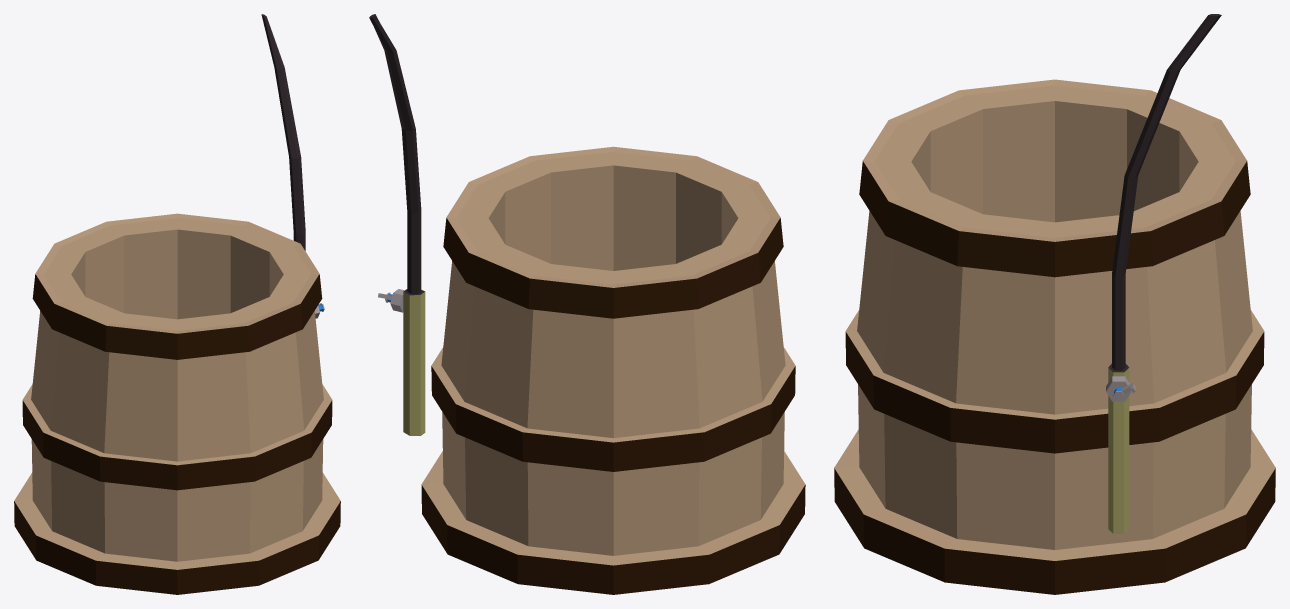
File: RodBarrel.fbx
The picture shows the model from 3 angles, left to right: view 1: azimuth 30°, elevation 25°; view 2: azimuth 150°, elevation 25°; view 3: azimuth 270°, elevation 25°; orthographic projection. The views are drawn at different scales.
Visible parts, largest first — view 1: Cylinder.003, Cylinder.004; view 2: Cylinder.003, Cylinder.004; view 3: Cylinder.003, Cylinder.004.
Boxes of the visible parts, bbox=[...] form: Cylinder.003: bbox=[14, 213, 340, 594]; Cylinder.004: bbox=[261, 14, 324, 318]; Cylinder.003: bbox=[421, 146, 805, 594]; Cylinder.004: bbox=[369, 14, 425, 435]; Cylinder.003: bbox=[834, 79, 1275, 594]; Cylinder.004: bbox=[1106, 14, 1221, 533].
Bounding box in the file's own units: 263 × 347 × 238.
